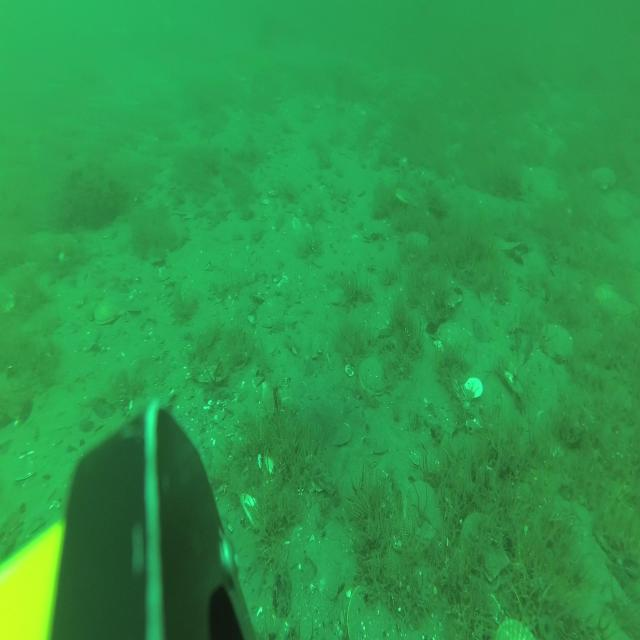scallop: (460, 509, 511, 581), (345, 581, 402, 640), (422, 264, 463, 312), (540, 317, 576, 360), (357, 356, 392, 397), (494, 613, 538, 640), (436, 320, 472, 353), (255, 293, 289, 327), (90, 298, 127, 328), (589, 161, 618, 192), (328, 281, 358, 307)
